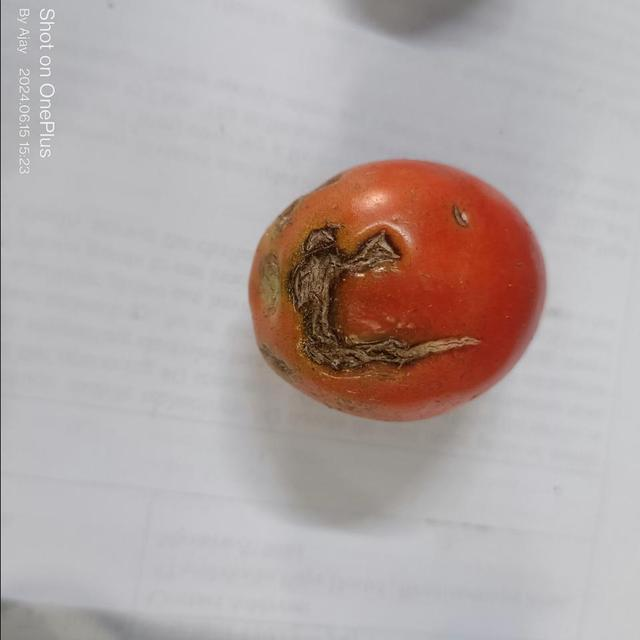Cracking Fruit: (140, 111, 363, 339)
